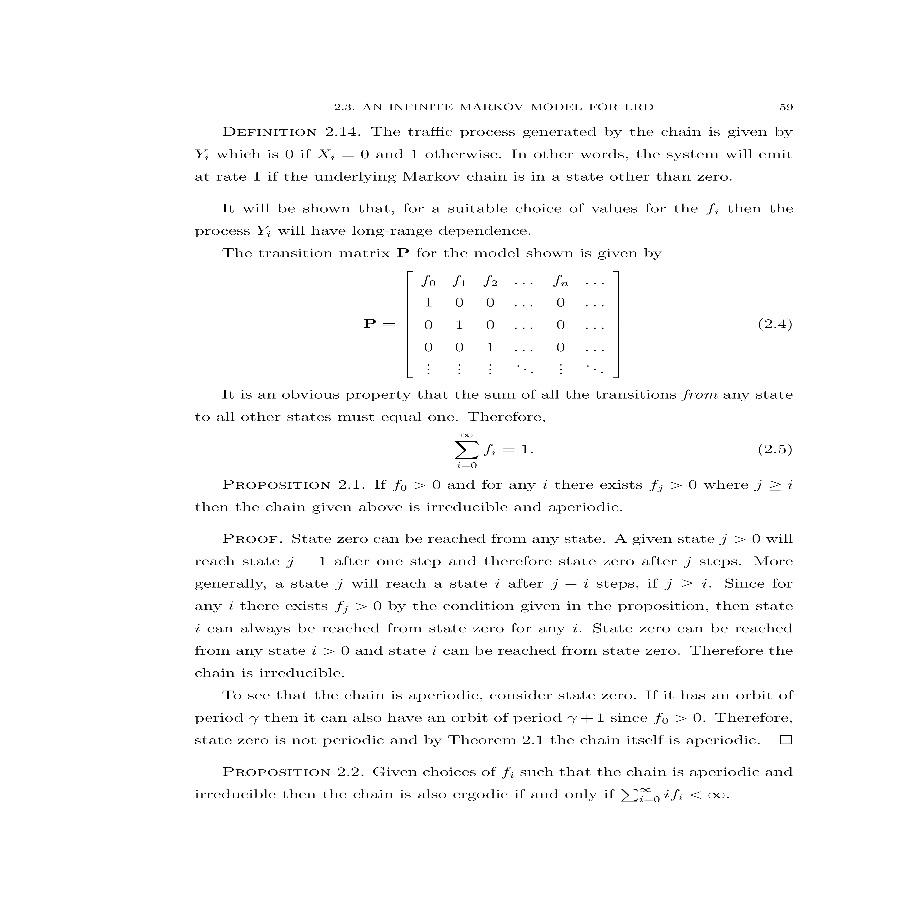eq: (364, 267, 627, 382), (450, 430, 528, 472)
